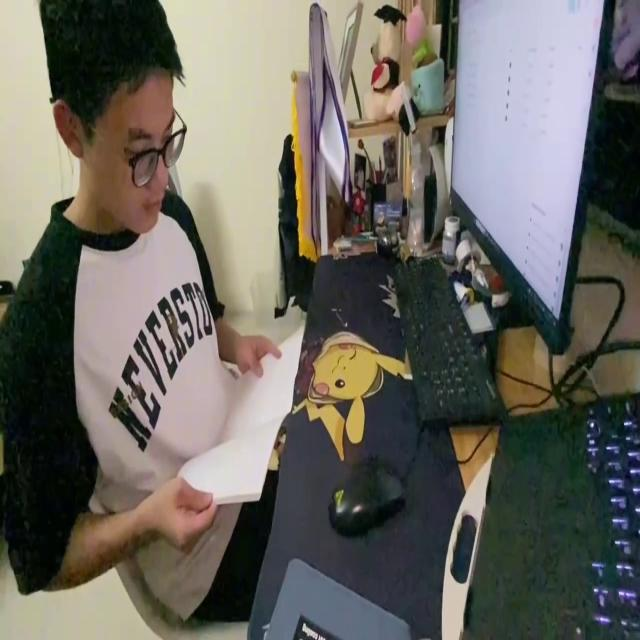book: (168, 323, 311, 512)
laptop: (448, 0, 618, 359), (460, 393, 640, 640)
student: (0, 0, 282, 627)
